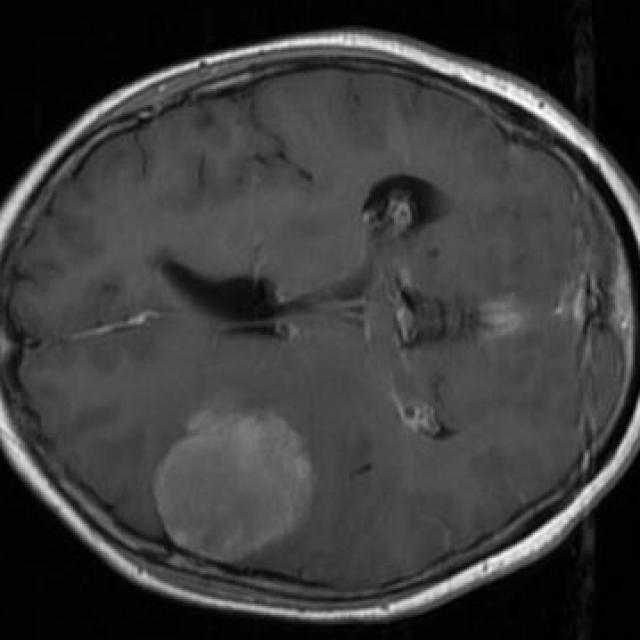meningioma: (153, 415, 310, 562)
